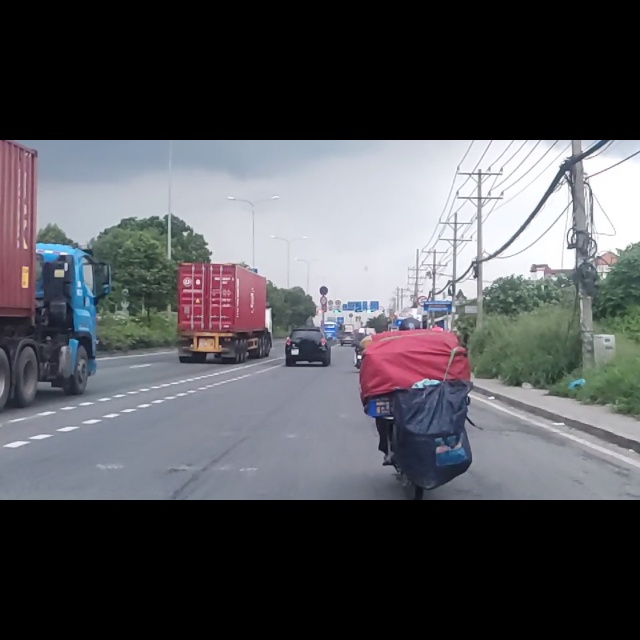bien_cam: (417, 277, 427, 295), (319, 258, 329, 275)
